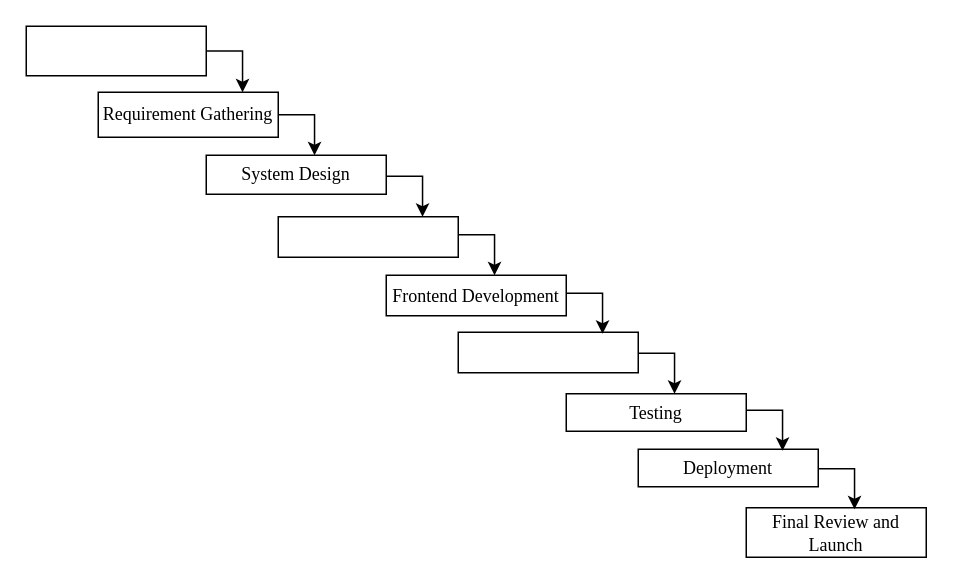
Image size: 953x584. Some labels were removed from this diagram. The shapes that lost their labels are listed below. From the top down, each one's centre as x and y in pixels, then its label:
At point 115,50: "Project Planning".
At point 367,236: "Backend Development".
At point 547,352: "Integration".
